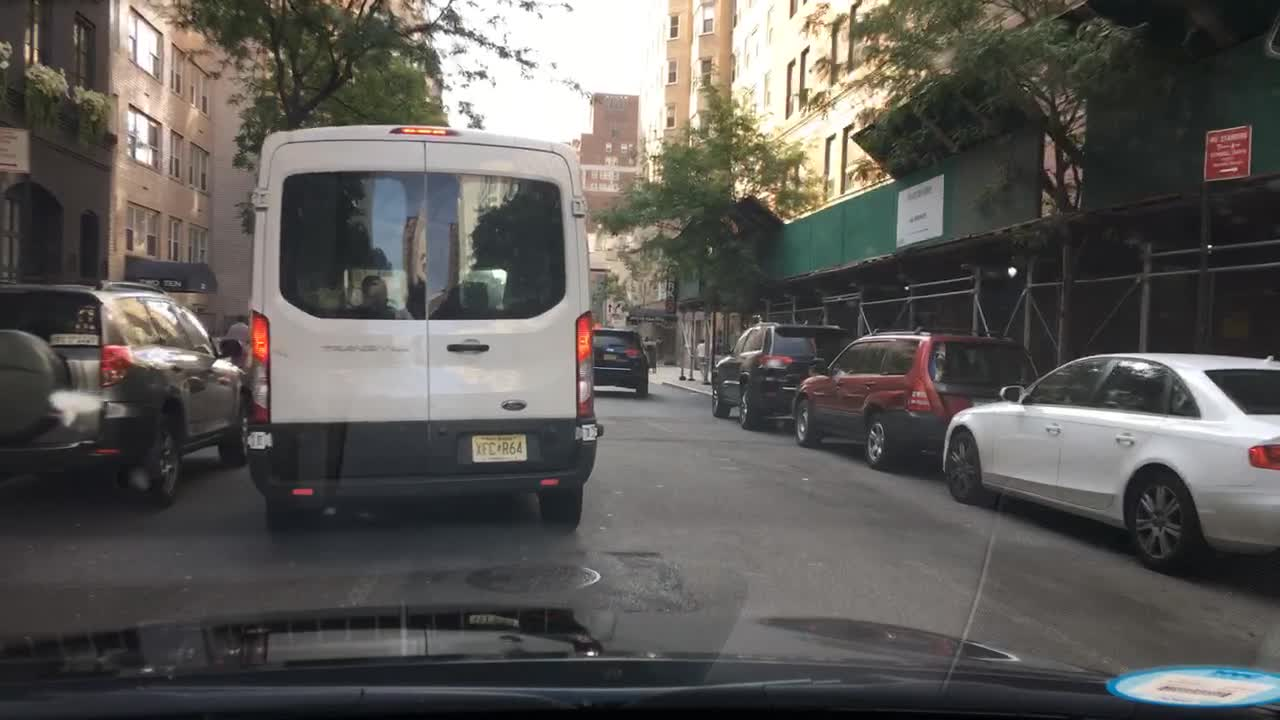car: (246, 124, 605, 529), (938, 351, 1278, 578), (0, 283, 251, 510), (790, 329, 1039, 465), (709, 324, 855, 425), (591, 326, 652, 401)
person: (223, 314, 252, 371), (696, 336, 708, 378)
